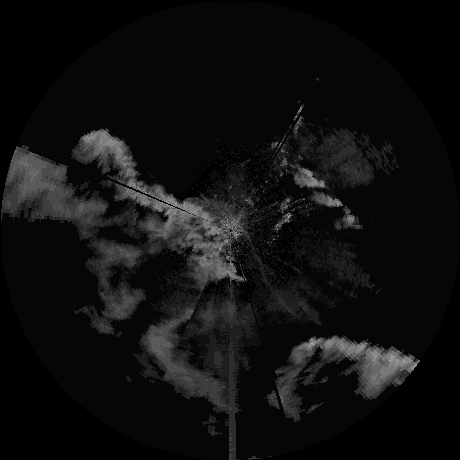frontgust: (239, 227, 270, 291)
